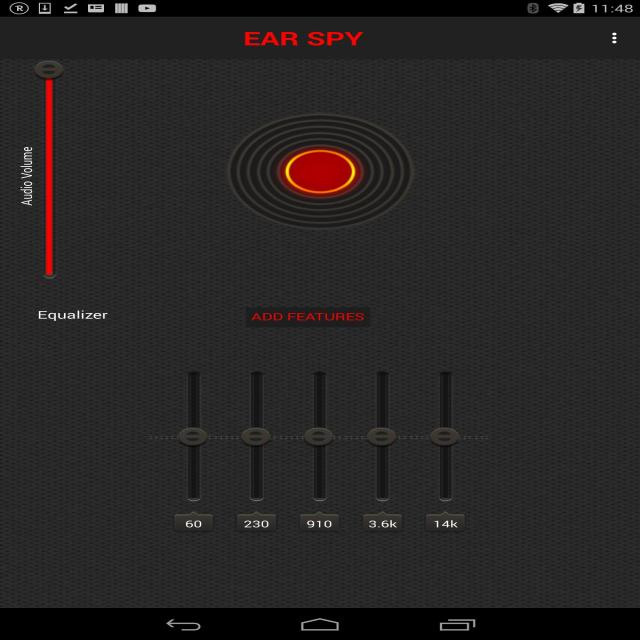button: (228, 112, 416, 232), (36, 58, 65, 282), (298, 365, 340, 507), (238, 365, 276, 509), (426, 366, 464, 508), (364, 366, 401, 508), (180, 366, 210, 507), (245, 308, 369, 329), (604, 27, 626, 48)
heading: (241, 29, 368, 50)
text: (17, 143, 39, 209), (34, 308, 109, 324), (304, 518, 335, 530), (368, 519, 399, 531), (241, 519, 271, 530), (434, 519, 462, 530), (184, 518, 204, 530)
